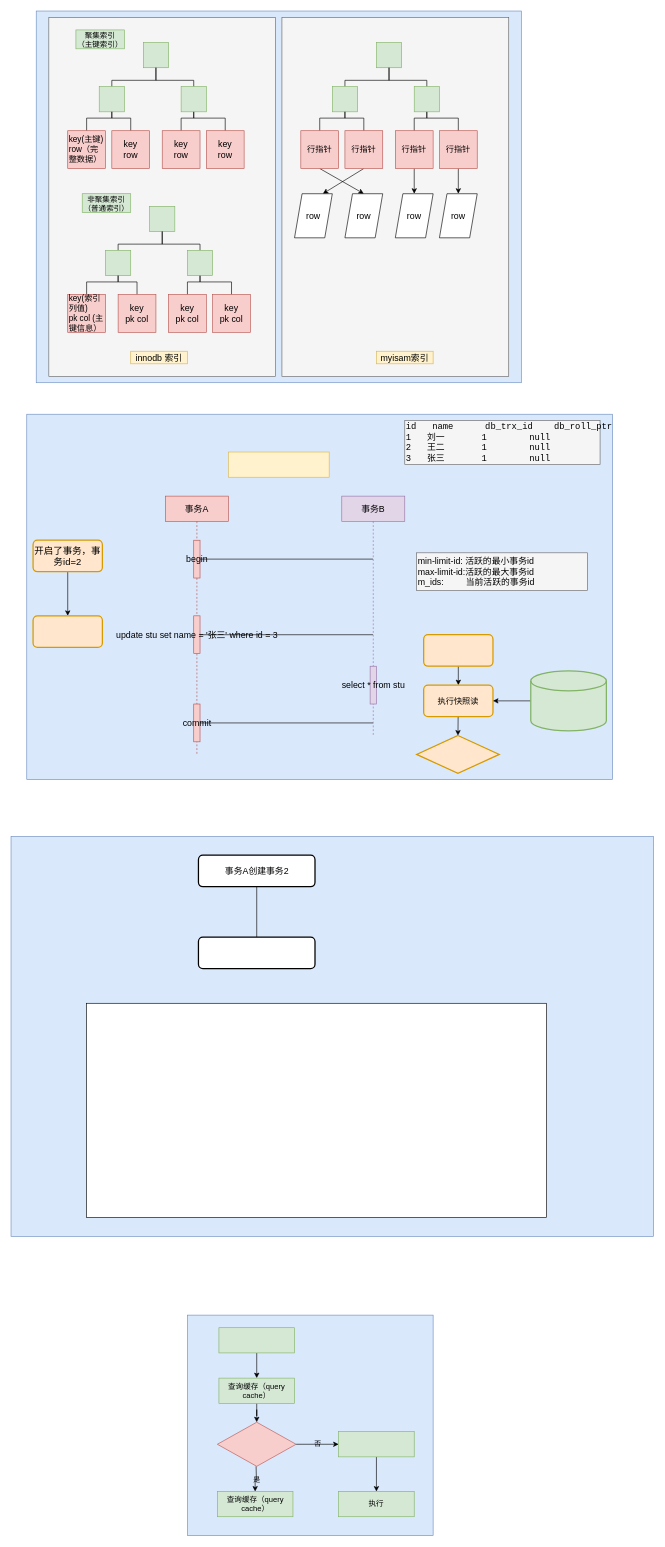
Some shapes in this 665 by 1547 pixel diagram are drawn without their labels. Each missing label, with the centre of its shape:
min-limit-id = 2 m_ids = [2,3] max-limit-id = 4: the point at 568,700
MVCC可见性算法 ，实现事务之间的不可见性: the point at 278,464
select请求: the point at 256,1340
事务B开启事务3: the point at 458,650
执行update语句后: the point at 256,952
更新操作,update trx_id=2, roll_ptr指向log: the point at 67,631
查询解析、优化: the point at 376,1444
能否找到对应查询: the point at 256,1444
进行可见性判断: the point at 458,754
